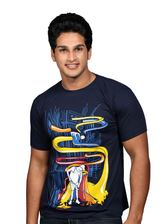clothoes: (28, 73, 149, 217)
